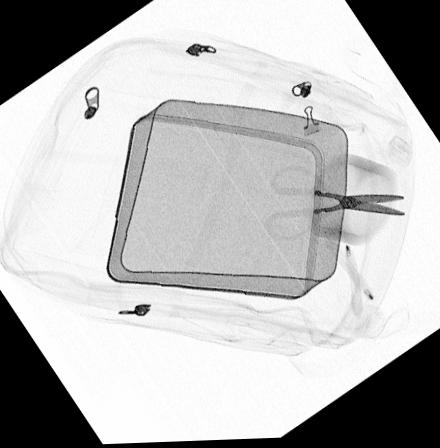Scissors: (261, 165, 408, 245)
